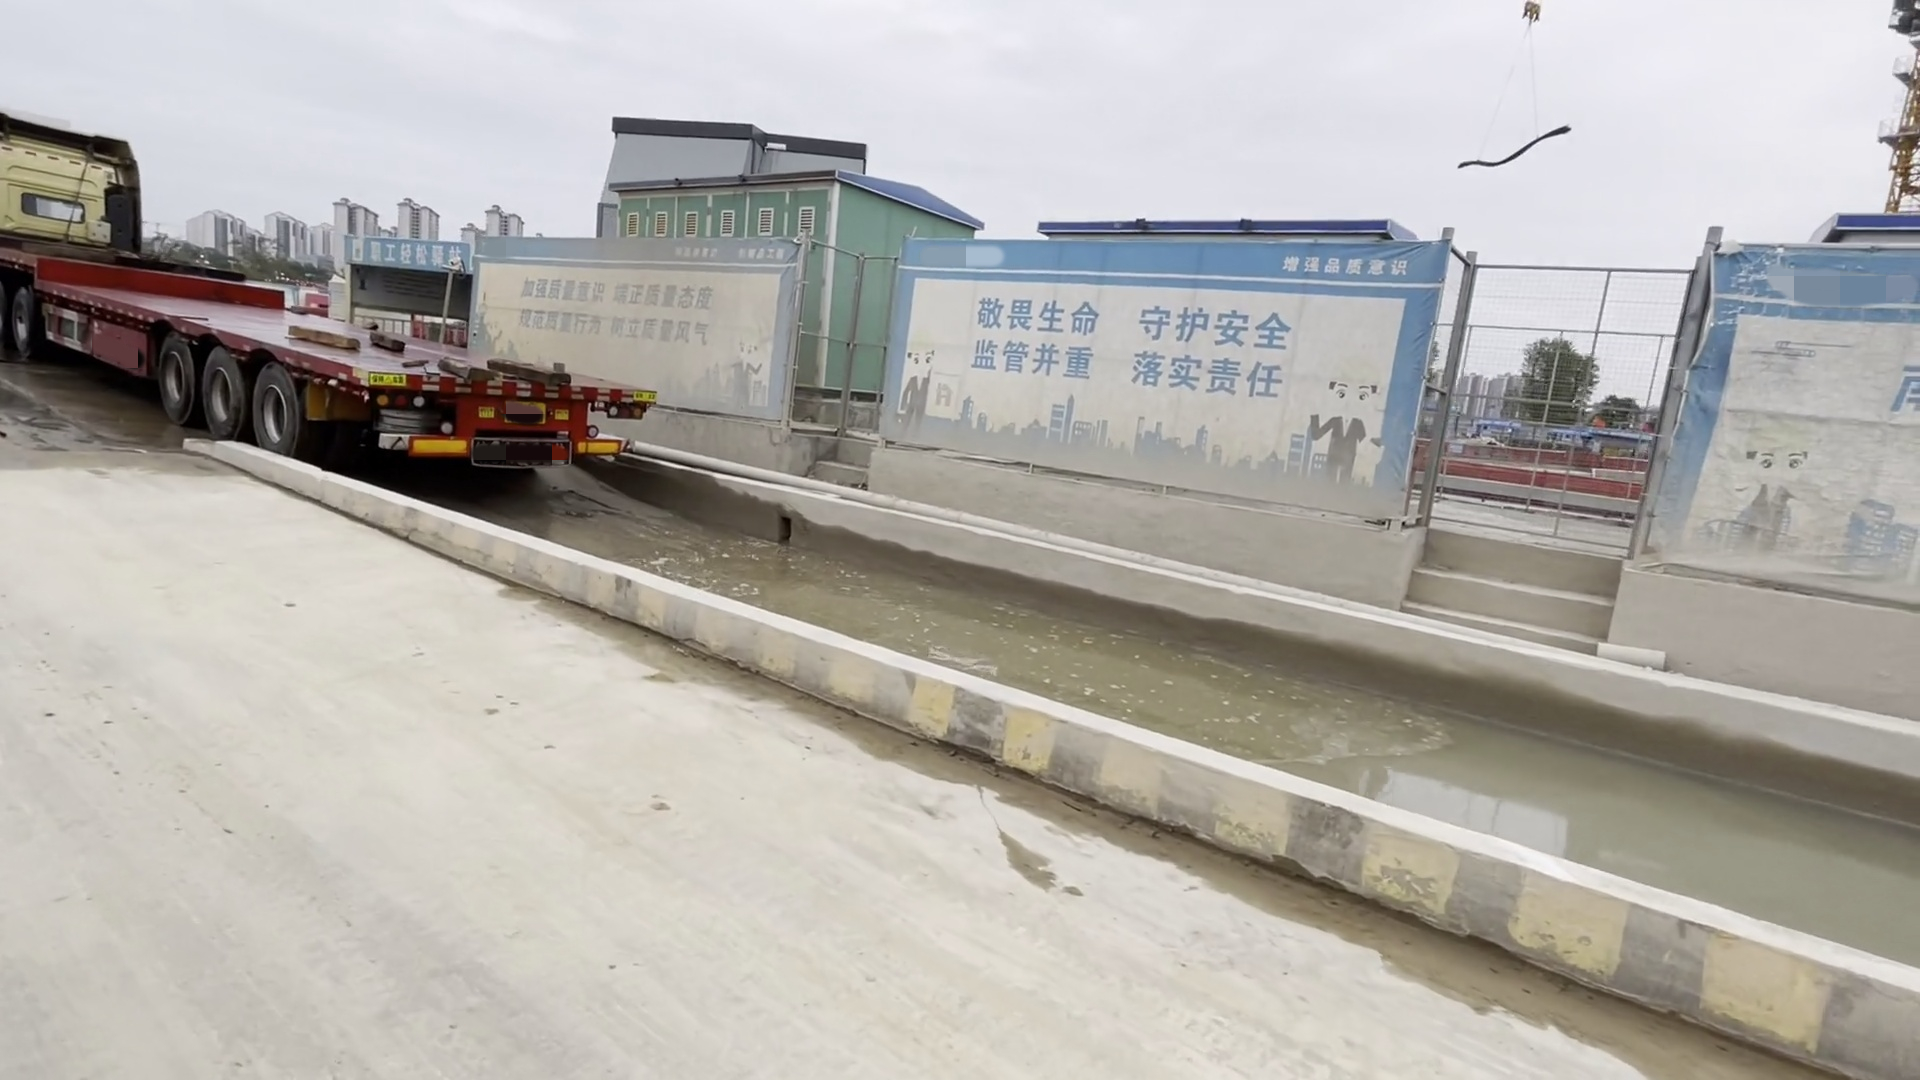hook: (1511, 1, 1553, 29)
slogan: (956, 286, 1305, 419), (510, 269, 725, 353), (1275, 243, 1419, 286), (666, 241, 793, 272)
